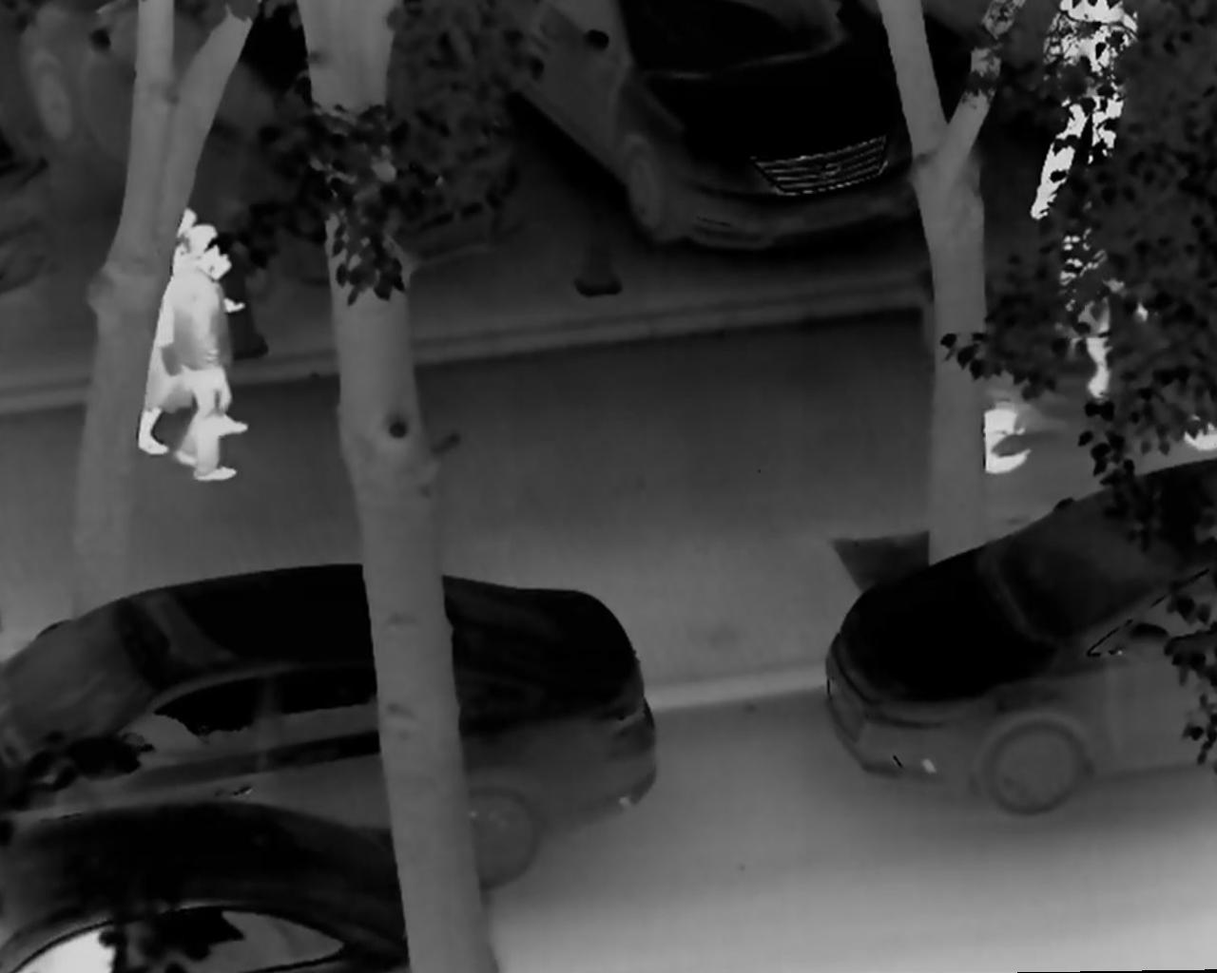person: (132, 206, 249, 457), (1053, 194, 1153, 409), (175, 224, 242, 481)
